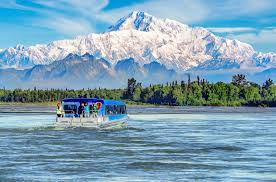boat: (53, 98, 130, 130)
